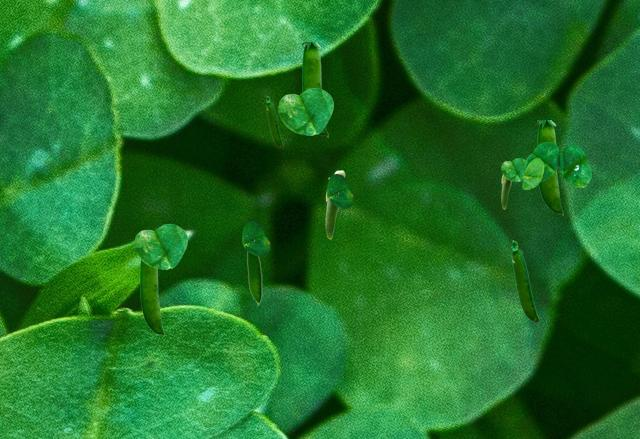pea: (302, 42, 327, 136), (537, 120, 562, 214), (511, 240, 538, 321), (140, 260, 163, 335), (325, 170, 344, 238), (266, 96, 282, 146), (246, 252, 261, 305), (501, 175, 512, 208)
